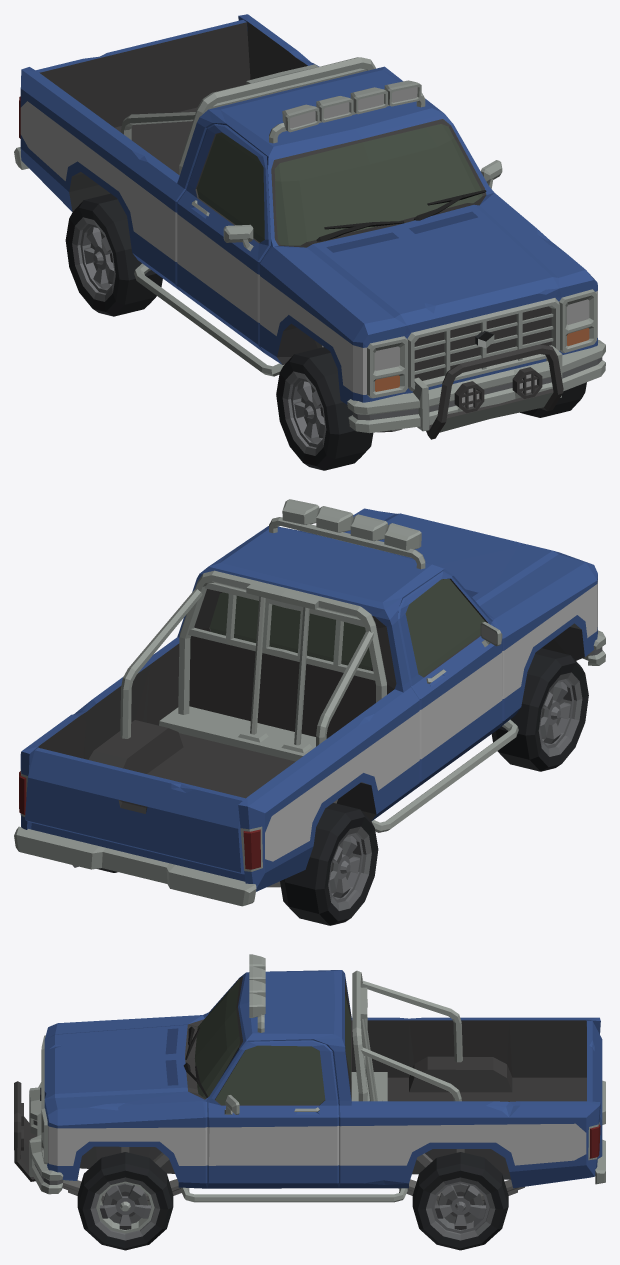
The model's file is synty-pickup.glb.
3 renders of one model, top to bottom at view 1: azimuth 30°, elevation 25°; view 2: azimuth 150°, elevation 25°; view 3: azimuth 270°, elevation 25°, orthographic. The views are drawn at different scales.
Parts seen in each view (by area): view 1: Body, Glass, FrontRightWheel, RearRightWheel, FrontLeftWheel; view 2: Body, Glass, RearRightWheel, FrontRightWheel; view 3: Body, Glass, FrontLeftWheel, RearLeftWheel.
Boxes of the visible parts, left/top/right/bottom form: Body: left=14, top=14, right=605, bottom=439; Glass: left=197, top=124, right=482, bottom=245; FrontRightWheel: left=276, top=347, right=373, bottom=470; RearRightWheel: left=65, top=193, right=162, bottom=316; FrontLeftWheel: left=520, top=382, right=586, bottom=417; Body: left=14, top=499, right=605, bottom=906; Glass: left=209, top=579, right=485, bottom=676; RearRightWheel: left=280, top=803, right=378, bottom=925; FrontRightWheel: left=491, top=648, right=588, bottom=771; Body: left=14, top=954, right=605, bottom=1204; Glass: left=194, top=980, right=350, bottom=1104; FrontLeftWheel: left=77, top=1152, right=173, bottom=1250; RearLeftWheel: left=412, top=1152, right=508, bottom=1250.
Bounding box in the file's own units: 2.34 × 2.27 × 5.44.
